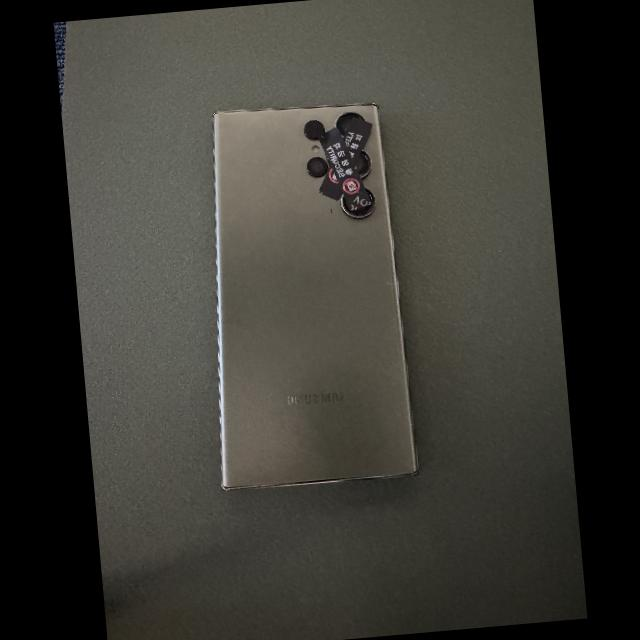lens: (342, 189, 374, 217), (335, 113, 361, 138), (358, 151, 369, 176), (305, 121, 321, 138)
phone: (213, 104, 417, 488)
sticker: (318, 127, 371, 210), (344, 119, 371, 169)
